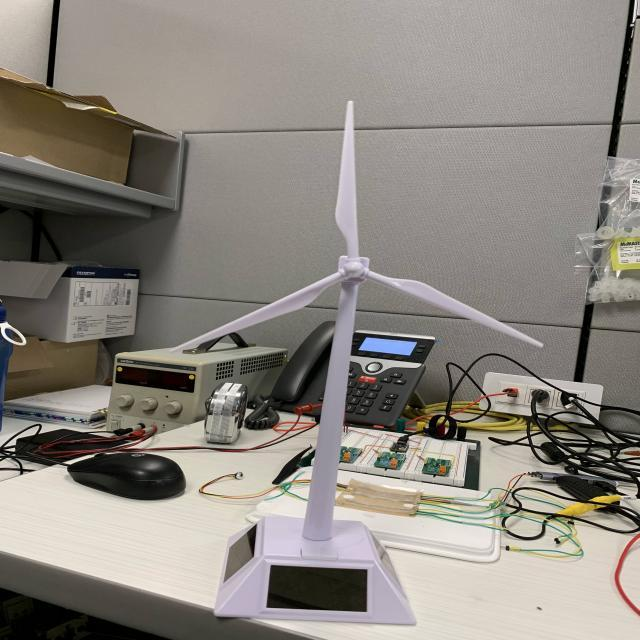solid-blade: (172, 271, 342, 349), (368, 271, 542, 347), (335, 101, 359, 257)
